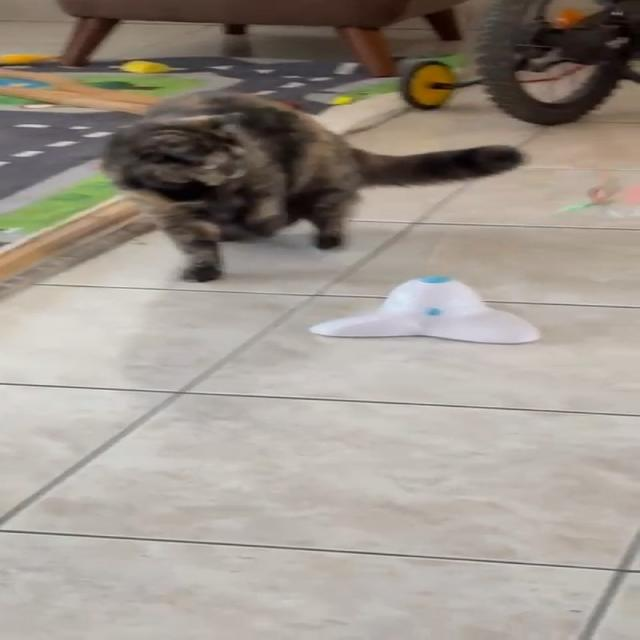authorized: (99, 89, 525, 282)
